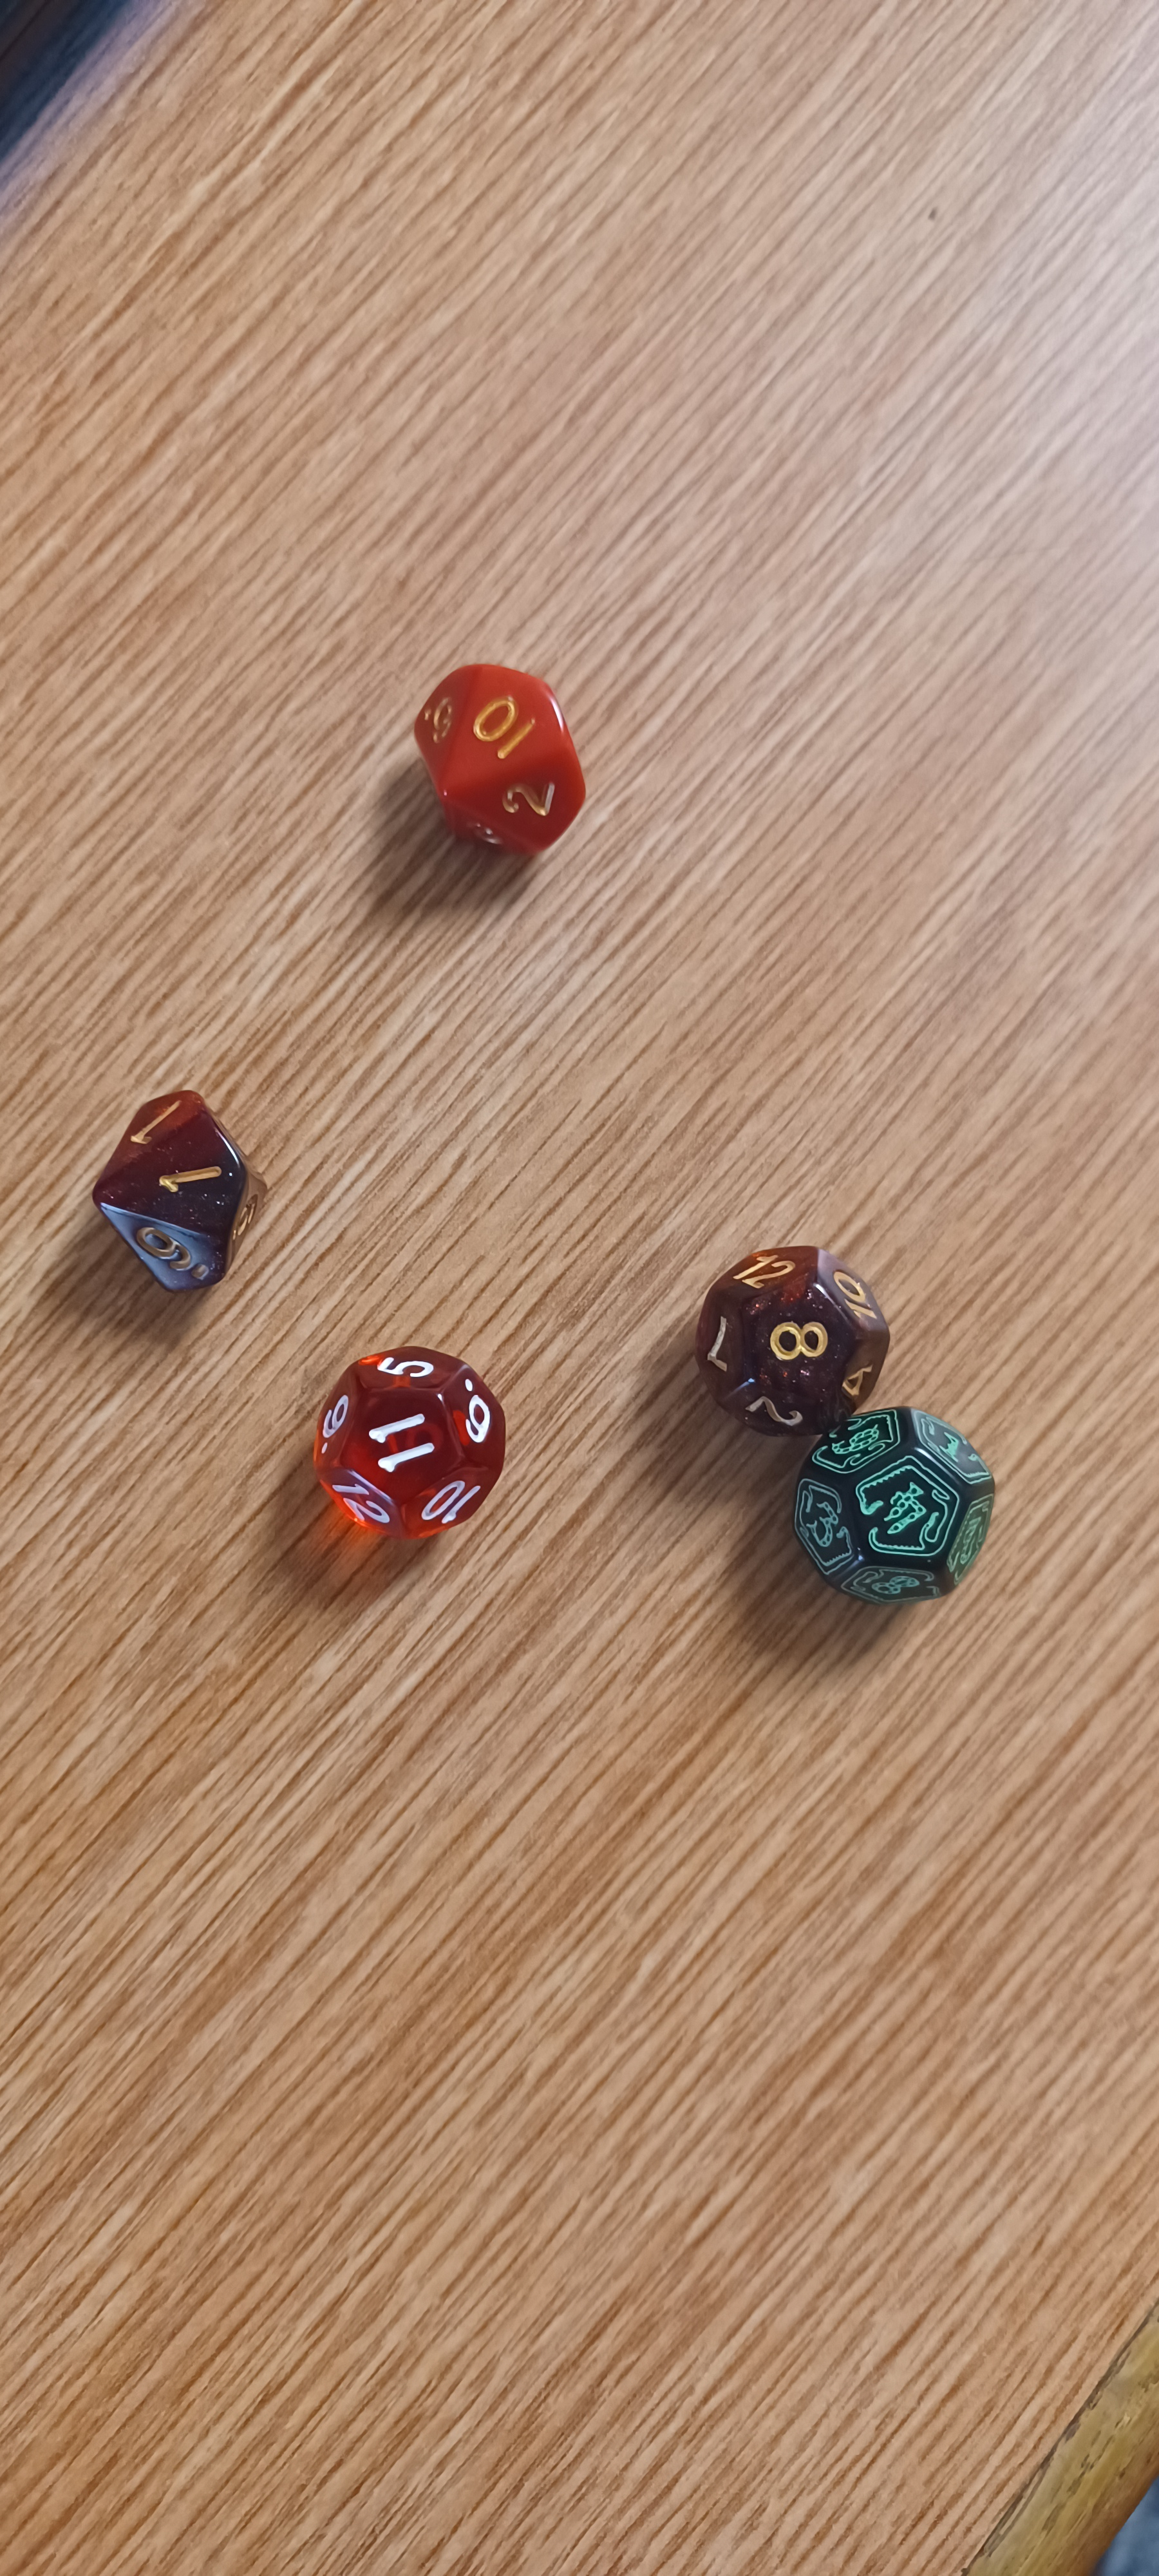eight: (673, 1217, 916, 1452)
eleven: (289, 1321, 519, 1556)
four: (793, 1391, 1015, 1623)
one: (43, 1061, 309, 1313)
ten: (379, 626, 614, 871)
